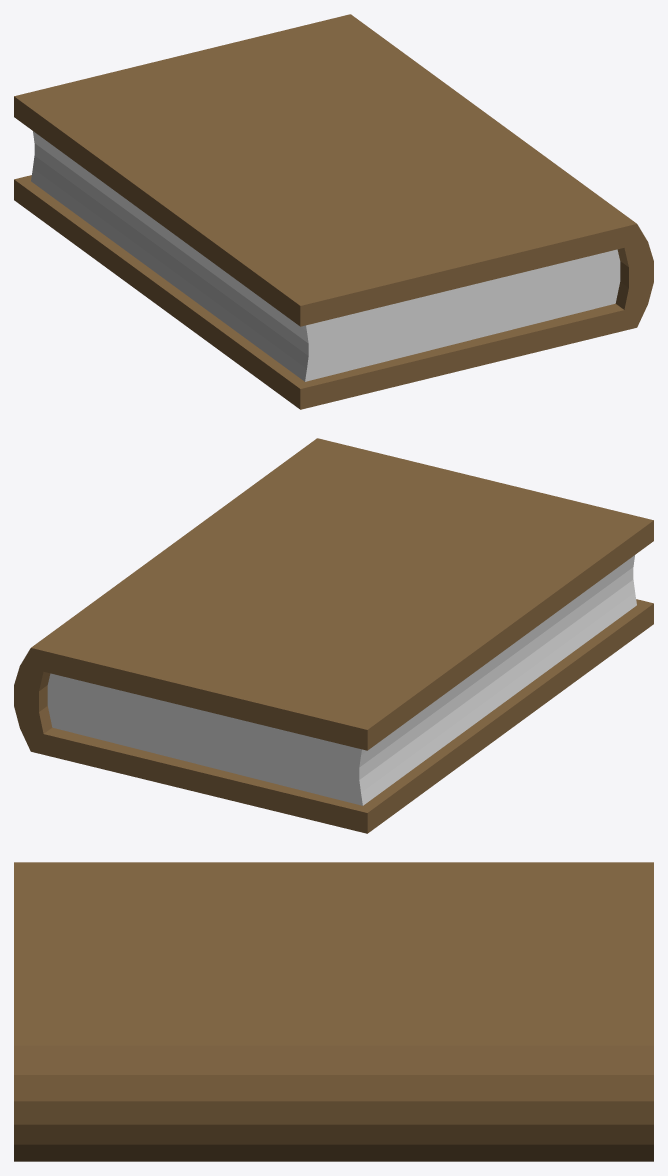
Rendered from bog1.glb.
3 views of the same model, one above another, from view 1: azimuth 30°, elevation 25°; view 2: azimuth 150°, elevation 25°; view 3: azimuth 270°, elevation 25° (orthographic). The views are drawn at different scales.
Parts seen in each view (by area): view 1: Cube; view 2: Cube; view 3: Cube.
Boxes of the visible parts, box(x1,y1,x2,y2) form: Cube: box(14, 14, 653, 409); Cube: box(14, 438, 653, 833); Cube: box(14, 862, 653, 1161).
Size of the model in its own units: 1.07 by 0.3 by 1.5.
